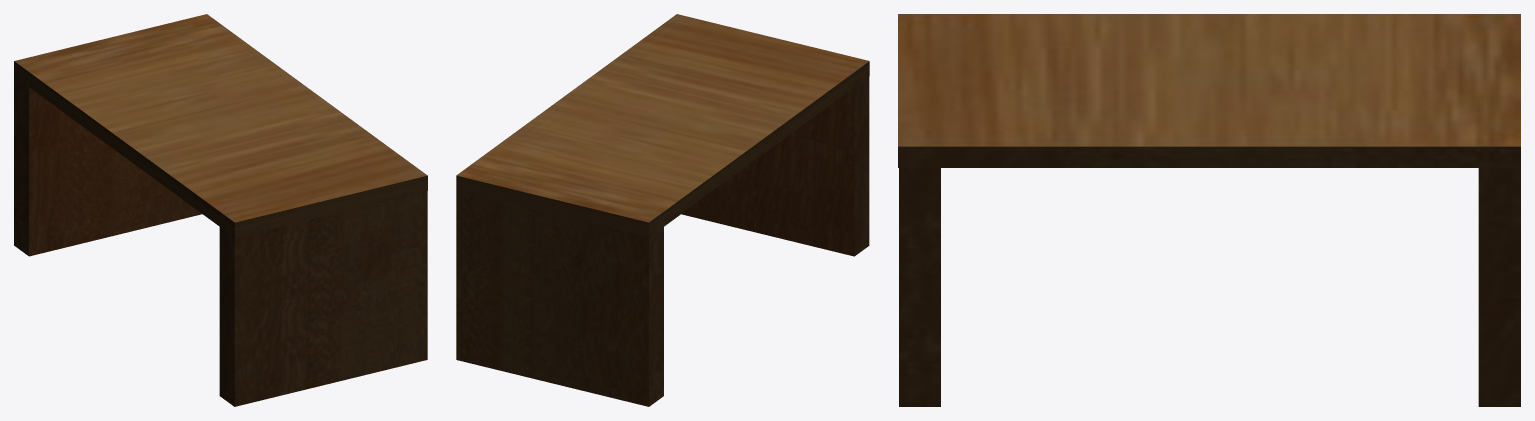
File: table.dae
The picture shows the model from 3 angles, left to right: view 1: azimuth 30°, elevation 25°; view 2: azimuth 150°, elevation 25°; view 3: azimuth 270°, elevation 25°; orthographic projection. The views are drawn at different scales.
Parts seen in each view (by area): view 1: Cube; view 2: Cube; view 3: Cube.
Boxes of the visible parts, bbox=[...] form: Cube: bbox=[14, 14, 427, 406]; Cube: bbox=[456, 14, 869, 406]; Cube: bbox=[898, 14, 1520, 406].
Bounding box in the file's own units: 0.3223 × 0.639 × 0.2946.
1 material, 1 textured.
